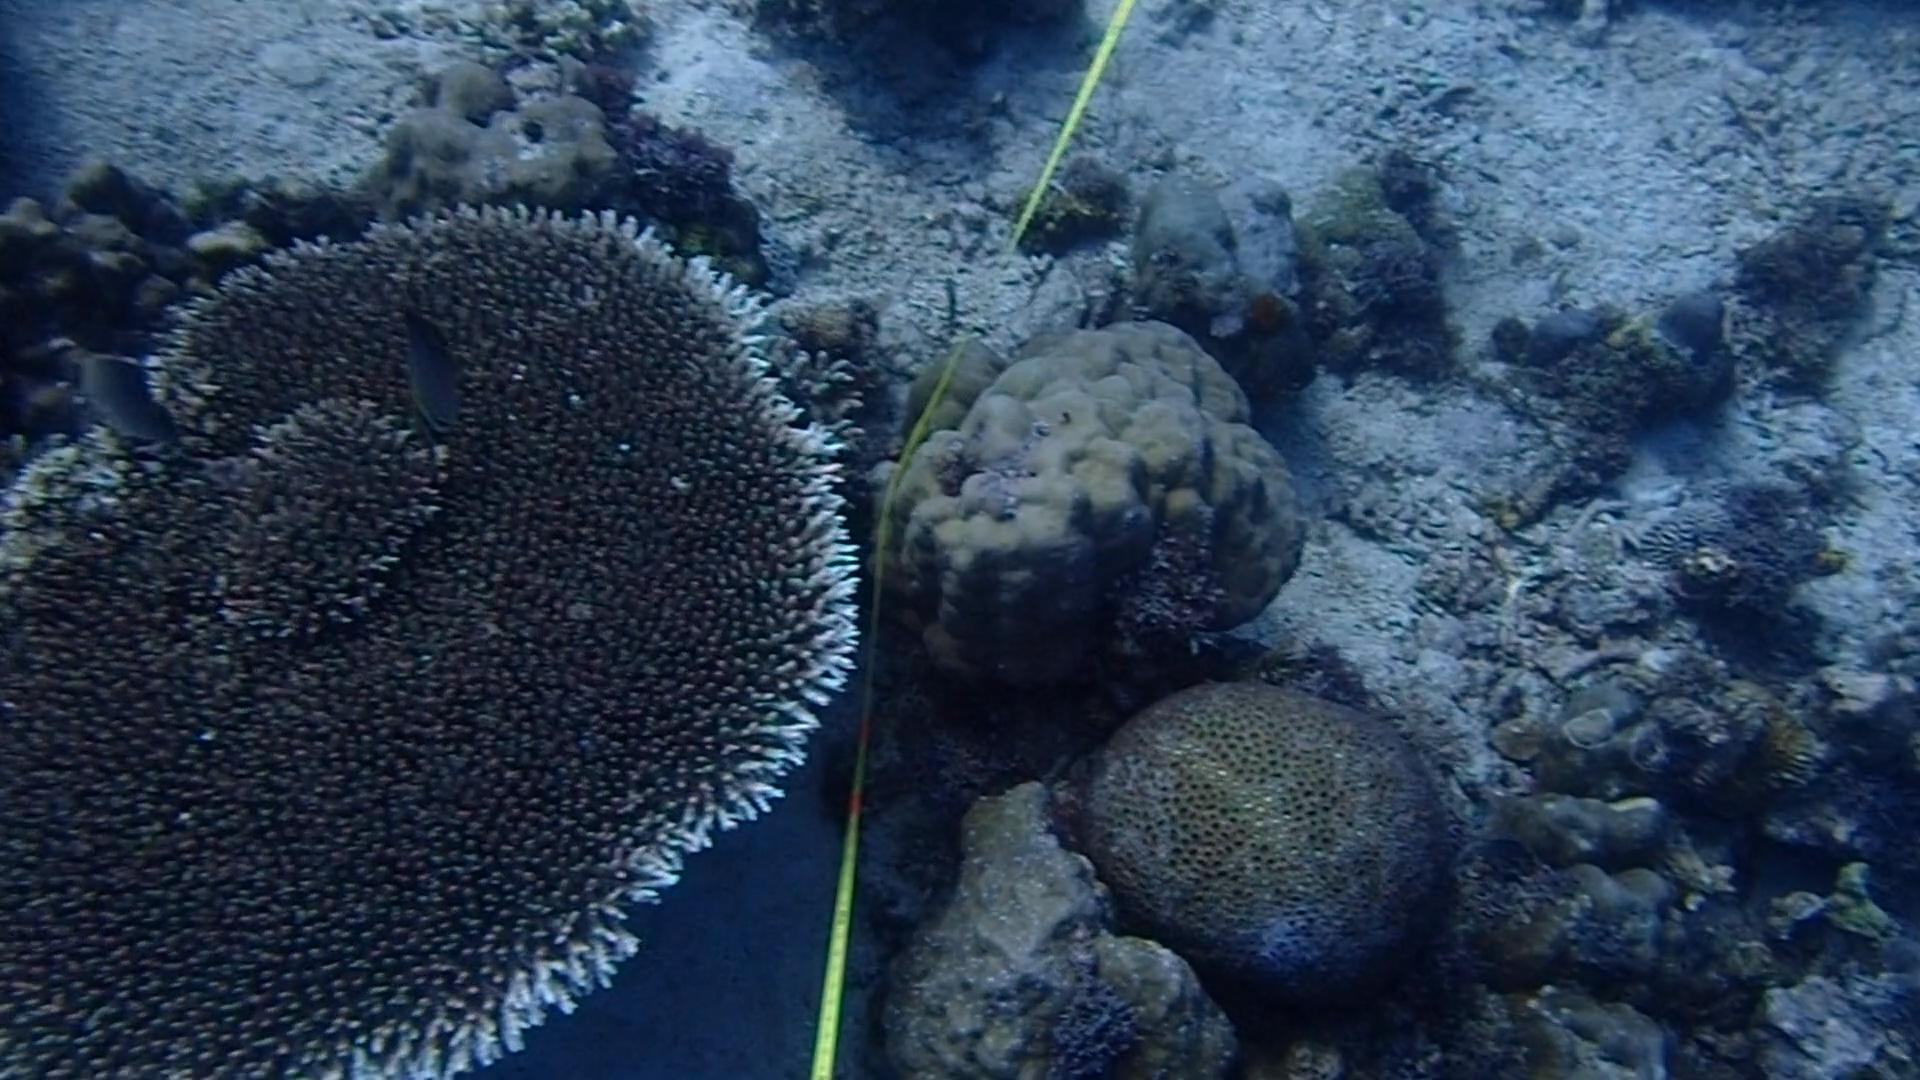Dark Blue Dory: (70, 352, 171, 467), (388, 309, 479, 436)
Light Fish: (1445, 824, 1532, 874)
